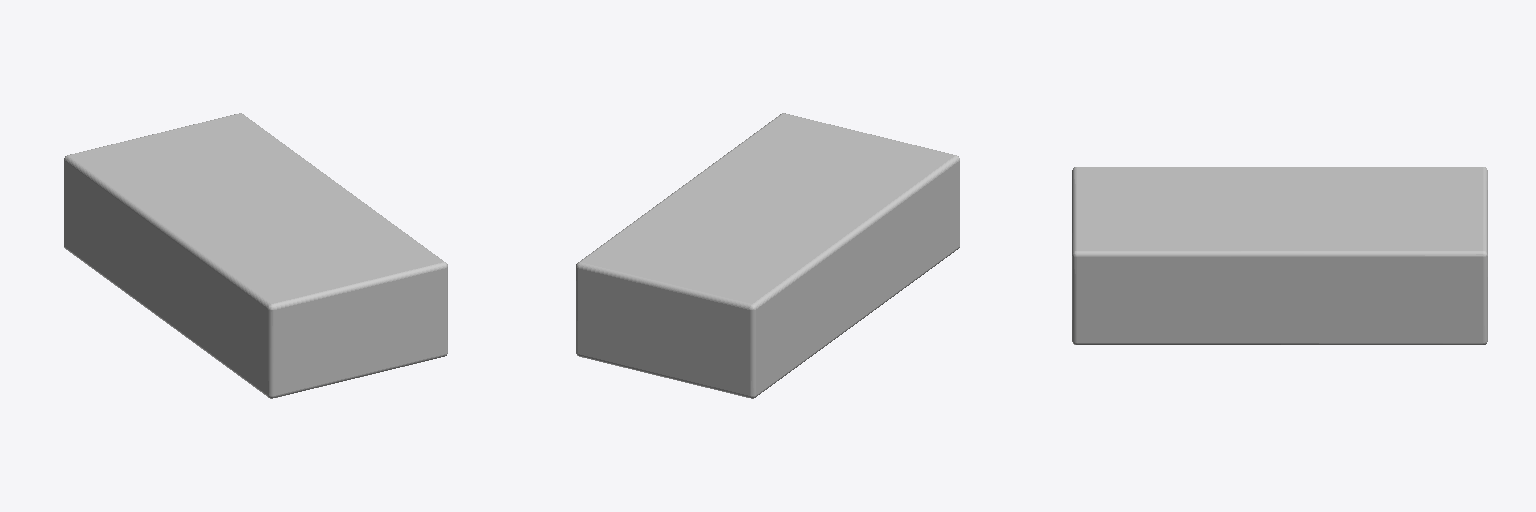
File: brick.obj
3 renders of one model, left to right at view 1: azimuth 30°, elevation 25°; view 2: azimuth 150°, elevation 25°; view 3: azimuth 270°, elevation 25°, orthographic.
Visible parts, largest first — view 1: Cube; view 2: Cube; view 3: Cube.
Part boxes in pixels (left/top/right/bottom): Cube: left=64, top=113, right=447, bottom=398; Cube: left=576, top=113, right=959, bottom=398; Cube: left=1072, top=167, right=1487, bottom=344.
Size of the model in its own units: 2 by 1 by 4.